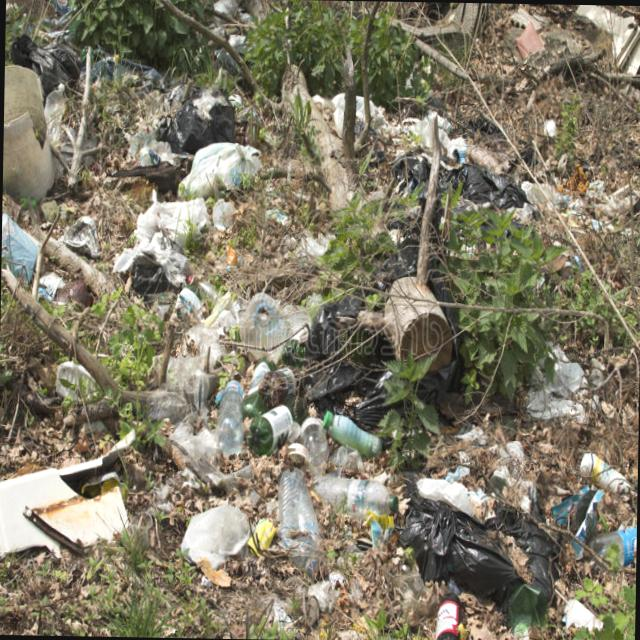garbage: (0, 76, 602, 601)
